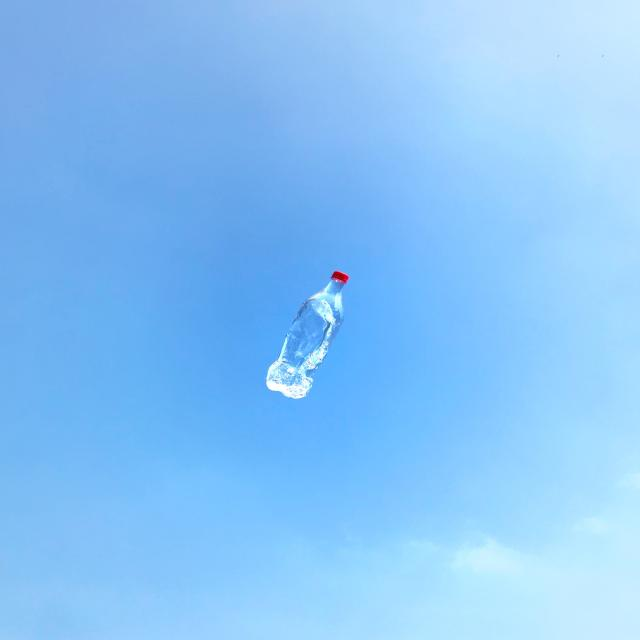bottle: (264, 269, 354, 403)
